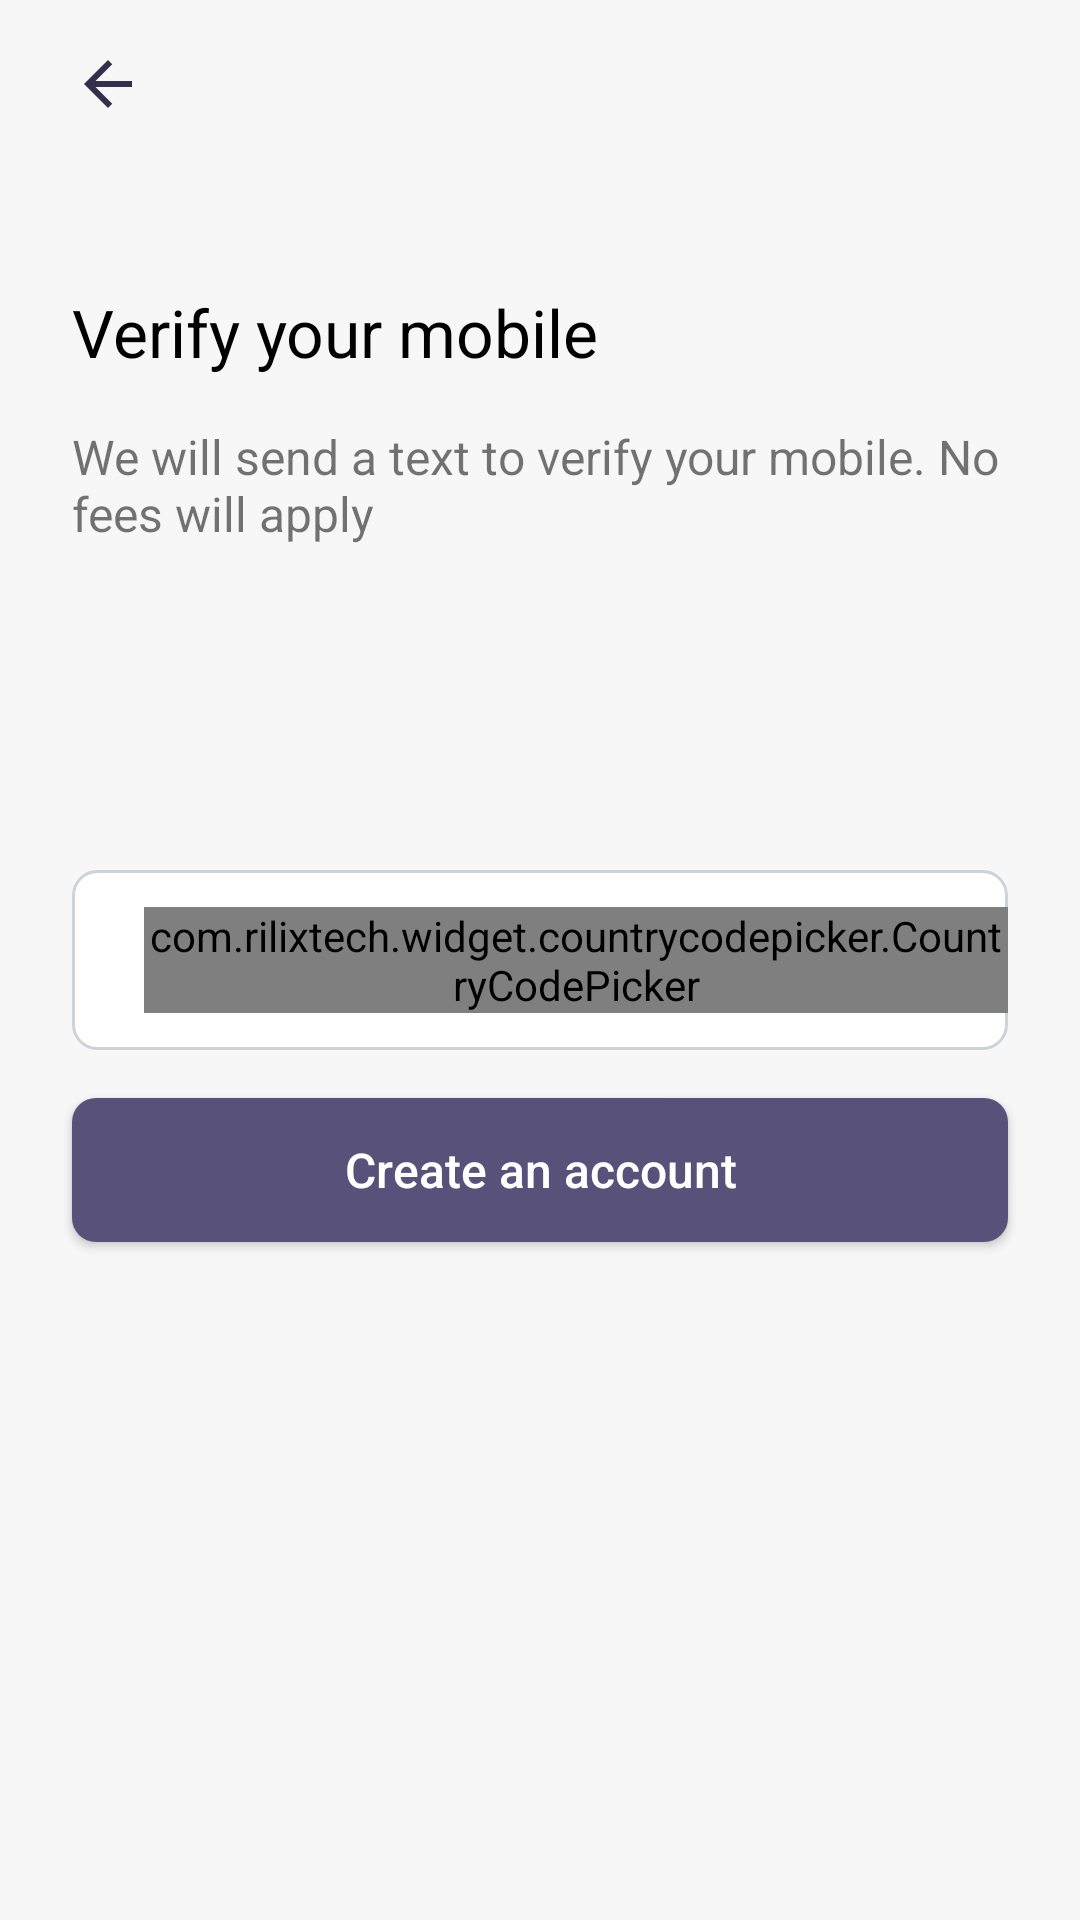

Named icons in this screenshot (1080px×1920px) and their centers, point (x, y):
arrow back: point (108, 84)
